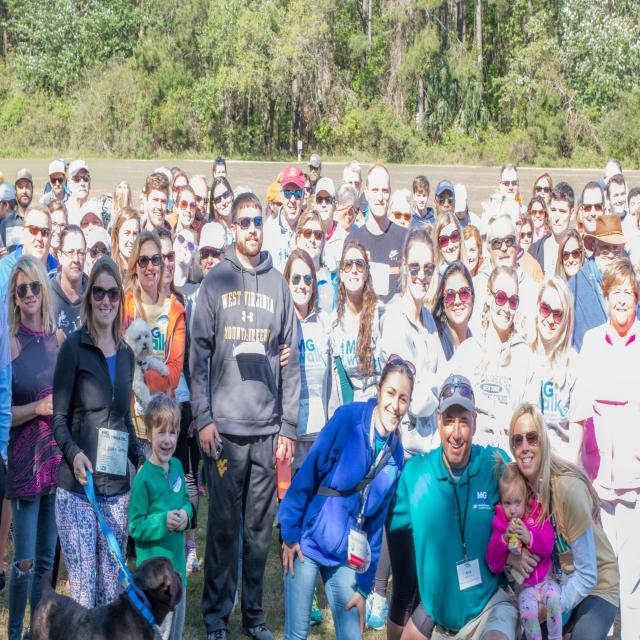body: (187, 190, 304, 640), (275, 350, 419, 640), (381, 373, 522, 639), (50, 252, 147, 612), (376, 224, 458, 640), (326, 240, 400, 629), (508, 400, 622, 640), (574, 252, 640, 640), (277, 247, 344, 627), (6, 252, 68, 640), (118, 228, 190, 468), (448, 265, 543, 439), (128, 392, 194, 640), (483, 448, 566, 640), (183, 220, 236, 503), (154, 228, 194, 573), (0, 159, 114, 279), (528, 273, 594, 467), (169, 225, 202, 575), (562, 213, 640, 359), (114, 156, 234, 250), (465, 209, 543, 351), (341, 163, 411, 307), (262, 154, 369, 238), (0, 199, 63, 311), (0, 280, 21, 586), (422, 209, 471, 315), (294, 208, 341, 316), (575, 158, 640, 236), (260, 166, 306, 276), (429, 258, 476, 362), (527, 180, 576, 279), (49, 224, 90, 336), (311, 174, 351, 274), (514, 171, 556, 255), (0, 167, 35, 256), (480, 161, 529, 223), (110, 204, 142, 290), (138, 171, 172, 236), (208, 175, 236, 249), (62, 159, 93, 225), (554, 225, 588, 283), (38, 159, 70, 213), (431, 178, 464, 230), (409, 173, 437, 232), (186, 175, 211, 239), (452, 183, 483, 233), (386, 186, 418, 232), (459, 222, 483, 280), (174, 183, 198, 232)
